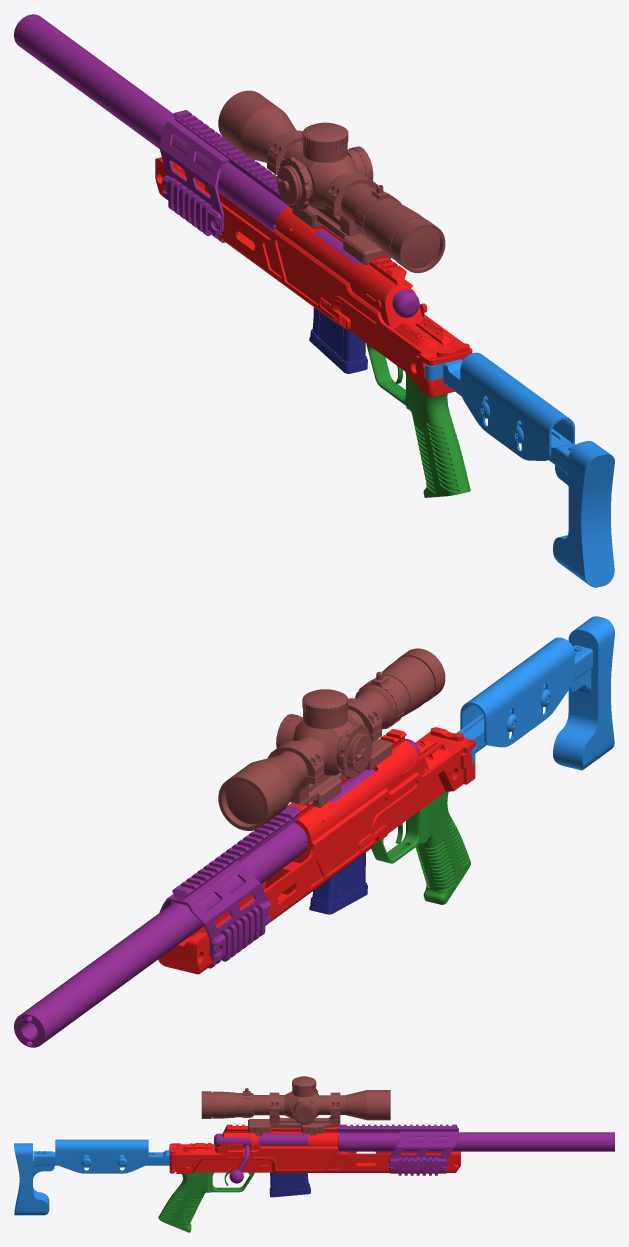
File: B&T SPR 300.fbx
3 views of the same model, one above another, from view 1: azimuth 30°, elevation 25°; view 2: azimuth 150°, elevation 25°; view 3: azimuth 270°, elevation 25° (orthographic). The views are drawn at different scales.
Parts seen in each view (by area): view 1: Scope, MainBody, Stuck, Supresser, MainBodyFront, Handel, Mag, Bolt; view 2: Scope, MainBody, Stuck, Supresser, MainBodyFront, Handel, Mag; view 3: MainBody, Scope, Stuck, Supresser, MainBodyFront, Handel, Bolt, Mag.
Boxes of the visible parts, x1=… form: Scope: x1=218, y1=90, x2=445, y2=273; MainBody: x1=155, y1=157, x2=472, y2=397; Stuck: x1=425, y1=352, x2=614, y2=587; Supresser: x1=14, y1=14, x2=288, y2=231; MainBodyFront: x1=159, y1=110, x2=287, y2=242; Handel: x1=366, y1=343, x2=470, y2=497; Mag: x1=309, y1=307, x2=367, y2=373; Bolt: x1=315, y1=229, x2=419, y2=317; Scope: x1=218, y1=648, x2=445, y2=830; MainBody: x1=158, y1=727, x2=475, y2=974; Stuck: x1=456, y1=616, x2=614, y2=770; Supresser: x1=14, y1=822, x2=307, y2=1047; MainBodyFront: x1=159, y1=805, x2=299, y2=968; Handel: x1=371, y1=791, x2=470, y2=904; Mag: x1=309, y1=852, x2=367, y2=914; MainBody: x1=169, y1=1124, x2=460, y2=1173; Scope: x1=201, y1=1076, x2=390, y2=1135; Stuck: x1=14, y1=1139, x2=169, y2=1215; Supresser: x1=338, y1=1132, x2=614, y2=1151; MainBodyFront: x1=337, y1=1124, x2=458, y2=1175; Handel: x1=158, y1=1172, x2=254, y2=1232; Bolt: x1=214, y1=1133, x2=308, y2=1183; Mag: x1=269, y1=1172, x2=310, y2=1197.
Bounding box in the file's own units: 8.75 × 27.48 × 99.77.
